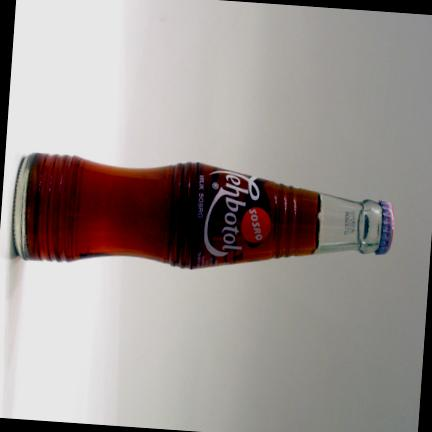container: (12, 152, 392, 268)
fluid: (16, 153, 317, 265)
fluid-surface: (314, 192, 321, 249)
